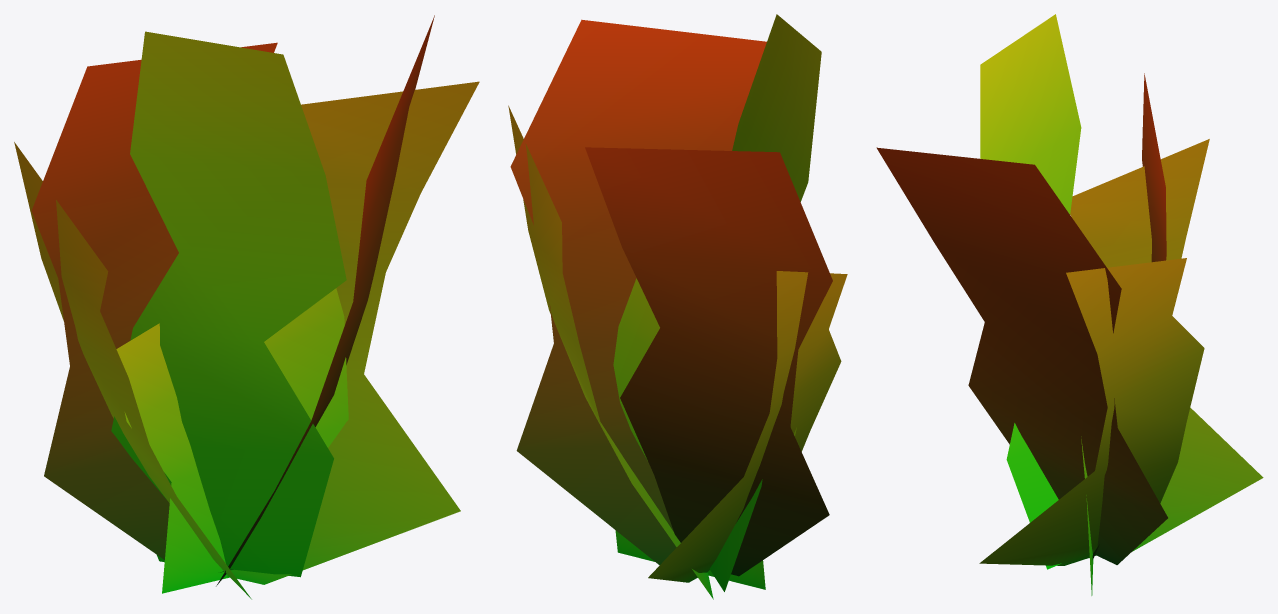
File: Var8Hi23.fbx
3 views of the same model, side by side, from view 1: azimuth 30°, elevation 25°; view 2: azimuth 150°, elevation 25°; view 3: azimuth 270°, elevation 25° (orthographic). The views are drawn at different scales.
Parts seen in each view (by area): view 1: bend1; view 2: bend1; view 3: bend1.
Boxes of the visible parts, bbox=[...] form: bend1: bbox=[14, 15, 479, 599]; bend1: bbox=[508, 14, 847, 599]; bend1: bbox=[876, 14, 1263, 595].
Size of the model in its own units: 1.26 by 1.76 by 1.23.
